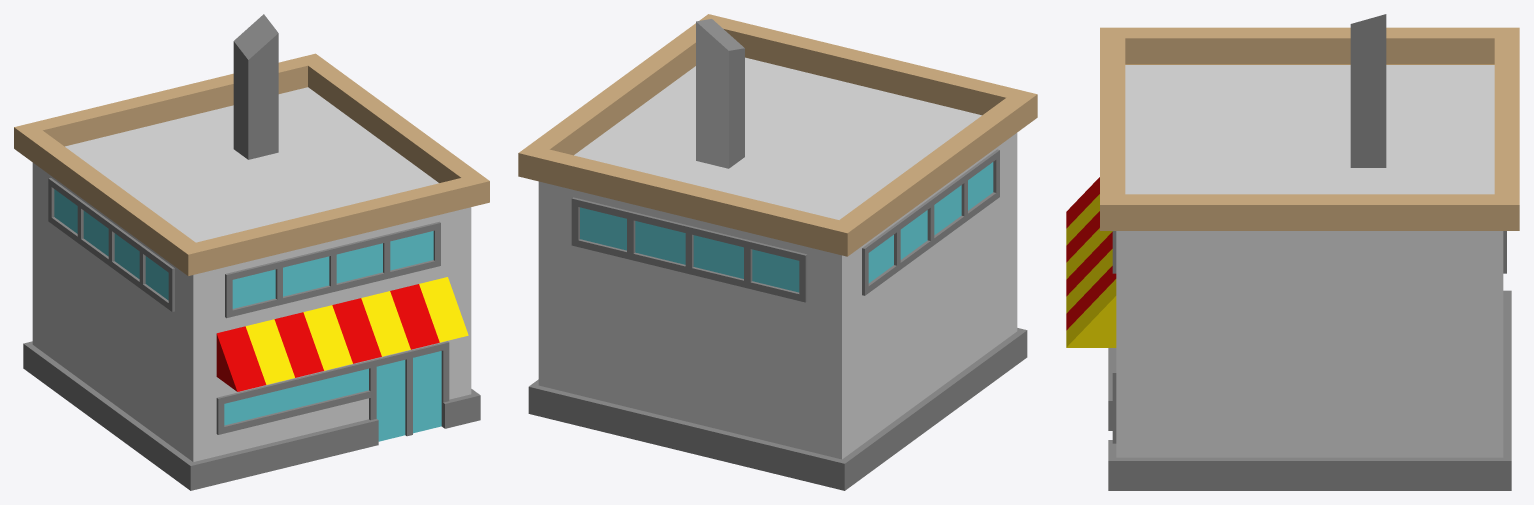
File: Pizza.fbx
3 views of the same model, side by side, from view 1: azimuth 30°, elevation 25°; view 2: azimuth 150°, elevation 25°; view 3: azimuth 270°, elevation 25° (orthographic). The views are drawn at different scales.
Visible parts, largest first — view 1: Model; view 2: Model; view 3: Model.
Boxes of the visible parts, <box> form: Model: <box>14,14,489,490</box>; Model: <box>518,14,1037,490</box>; Model: <box>1066,14,1519,490</box>.
Size of the model in its own units: 129 by 141 by 139.
